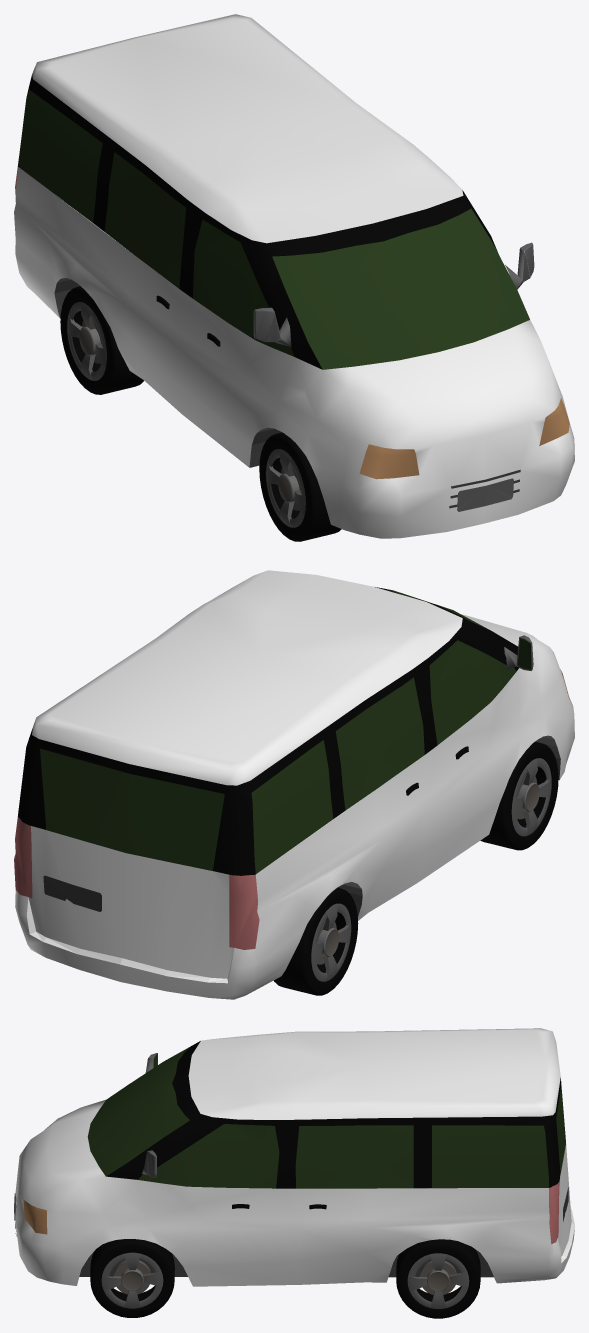
The model's file is car3.glb.
3 renders of one model, top to bottom at view 1: azimuth 30°, elevation 25°; view 2: azimuth 150°, elevation 25°; view 3: azimuth 270°, elevation 25°, orthographic. The views are drawn at different scales.
Visible parts, largest first — view 1: VehicleBody, obj11~Material__32_materialGroup_11, obj8~car308_materialGroup_8, obj13~_____21_materialGroup_13, obj27~_____21_materialGroup_17, ~??_10_materialGroup_15, obj9~??_2_materialGroup_9, obj6~??_15_materialGroup_6, ~_____21_materialGroup_12, obj1~??_15_materialGroup_1, ~??_22_materialGroup_14; view 2: VehicleBody, obj11~Material__32_materialGroup_11, obj8~car308_materialGroup_8, obj27~_____21_materialGroup_17, obj2~??_5_materialGroup_2, obj13~_____21_materialGroup_13, ~??_10_materialGroup_15, ~??_20_materialGroup_4, ~_____21_materialGroup_12, ~??_22_materialGroup_14, obj1~??_15_materialGroup_1; view 3: VehicleBody, obj11~Material__32_materialGroup_11, obj8~car308_materialGroup_8, ~_____21_materialGroup_12, ~??_10_materialGroup_15, ~??_22_materialGroup_14, obj0~??_20_materialGroup_0, obj2~??_5_materialGroup_2, obj9~??_2_materialGroup_9, obj6~??_15_materialGroup_6.
Part boxes in pixels (x1=…): VehicleBody: x1=14, y1=14, x2=574, y2=538; obj11~Material__32_materialGroup_11: x1=18, y1=90, x2=529, y2=369; obj8~car308_materialGroup_8: x1=18, y1=74, x2=498, y2=369; obj13~_____21_materialGroup_13: x1=259, y1=432, x2=341, y2=541; obj27~_____21_materialGroup_17: x1=60, y1=286, x2=143, y2=394; ~??_10_materialGroup_15: x1=67, y1=302, x2=305, y2=527; obj9~??_2_materialGroup_9: x1=359, y1=398, x2=569, y2=479; obj6~??_15_materialGroup_6: x1=253, y1=242, x2=534, y2=346; ~_____21_materialGroup_12: x1=93, y1=143, x2=114, y2=231; obj1~??_15_materialGroup_1: x1=54, y1=278, x2=281, y2=467; ~??_22_materialGroup_14: x1=79, y1=319, x2=301, y2=510; VehicleBody: x1=15, y1=570, x2=574, y2=999; obj11~Material__32_materialGroup_11: x1=40, y1=589, x2=531, y2=873; obj8~car308_materialGroup_8: x1=18, y1=587, x2=518, y2=875; obj27~_____21_materialGroup_17: x1=273, y1=887, x2=358, y2=995; obj2~??_5_materialGroup_2: x1=14, y1=817, x2=259, y2=949; obj13~_____21_materialGroup_13: x1=480, y1=741, x2=558, y2=850; ~??_10_materialGroup_15: x1=311, y1=758, x2=551, y2=981; ~??_20_materialGroup_4: x1=43, y1=875, x2=101, y2=911; ~_____21_materialGroup_12: x1=324, y1=731, x2=345, y2=818; ~??_22_materialGroup_14: x1=316, y1=774, x2=539, y2=964; obj1~??_15_materialGroup_1: x1=337, y1=735, x2=560, y2=916; VehicleBody: x1=15, y1=1028, x2=574, y2=1286; obj11~Material__32_materialGroup_11: x1=87, y1=1047, x2=565, y2=1188; obj8~car308_materialGroup_8: x1=106, y1=1041, x2=561, y2=1188; ~_____21_materialGroup_12: x1=90, y1=1125, x2=480, y2=1318; ~??_10_materialGroup_15: x1=101, y1=1252, x2=469, y2=1308; ~??_22_materialGroup_14: x1=113, y1=1260, x2=456, y2=1294; obj0~??_20_materialGroup_0: x1=79, y1=1188, x2=493, y2=1277; obj2~??_5_materialGroup_2: x1=549, y1=1181, x2=559, y2=1244; obj9~??_2_materialGroup_9: x1=23, y1=1200, x2=47, y2=1234; obj6~??_15_materialGroup_6: x1=142, y1=1053, x2=157, y2=1177.
Size of the model in its own units: 2.44 by 2.28 by 5.57.
